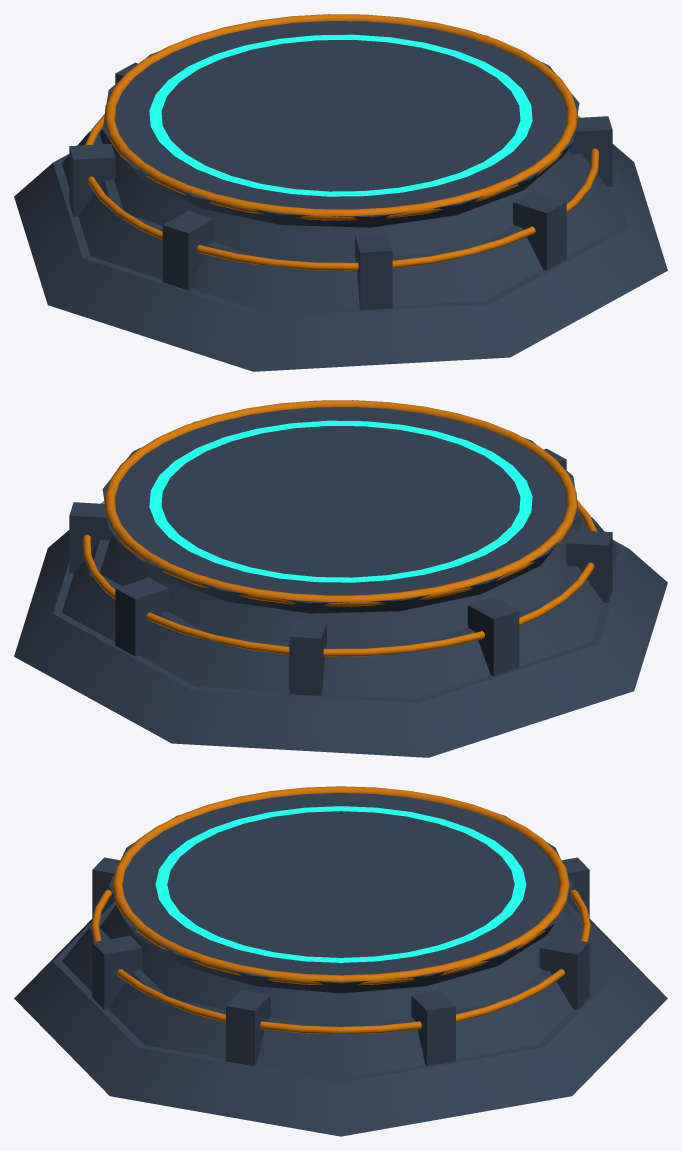
Rendered from sanctuary_pedestal.glb.
The picture shows the model from 3 angles, top to bottom: view 1: azimuth 30°, elevation 25°; view 2: azimuth 150°, elevation 25°; view 3: azimuth 270°, elevation 25°; orthographic projection. The views are drawn at different scales.
Visible parts, largest first — view 1: pedestal_stone, pedestal_gold, pedestal_rune; view 2: pedestal_stone, pedestal_gold, pedestal_rune; view 3: pedestal_stone, pedestal_gold, pedestal_rune.
Part boxes in pixels (box(x1,y1,x2,y2)): pedestal_stone: box(14, 21, 667, 371); pedestal_gold: box(85, 14, 599, 270); pedestal_rune: box(149, 34, 532, 196); pedestal_stone: box(14, 407, 667, 757); pedestal_gold: box(82, 400, 596, 656); pedestal_rune: box(149, 420, 532, 582); pedestal_stone: box(14, 793, 667, 1136); pedestal_gold: box(91, 786, 590, 1033); pedestal_rune: box(155, 806, 526, 962).
Bounding box in the file's own units: 6.7 × 1.32 × 6.7.
